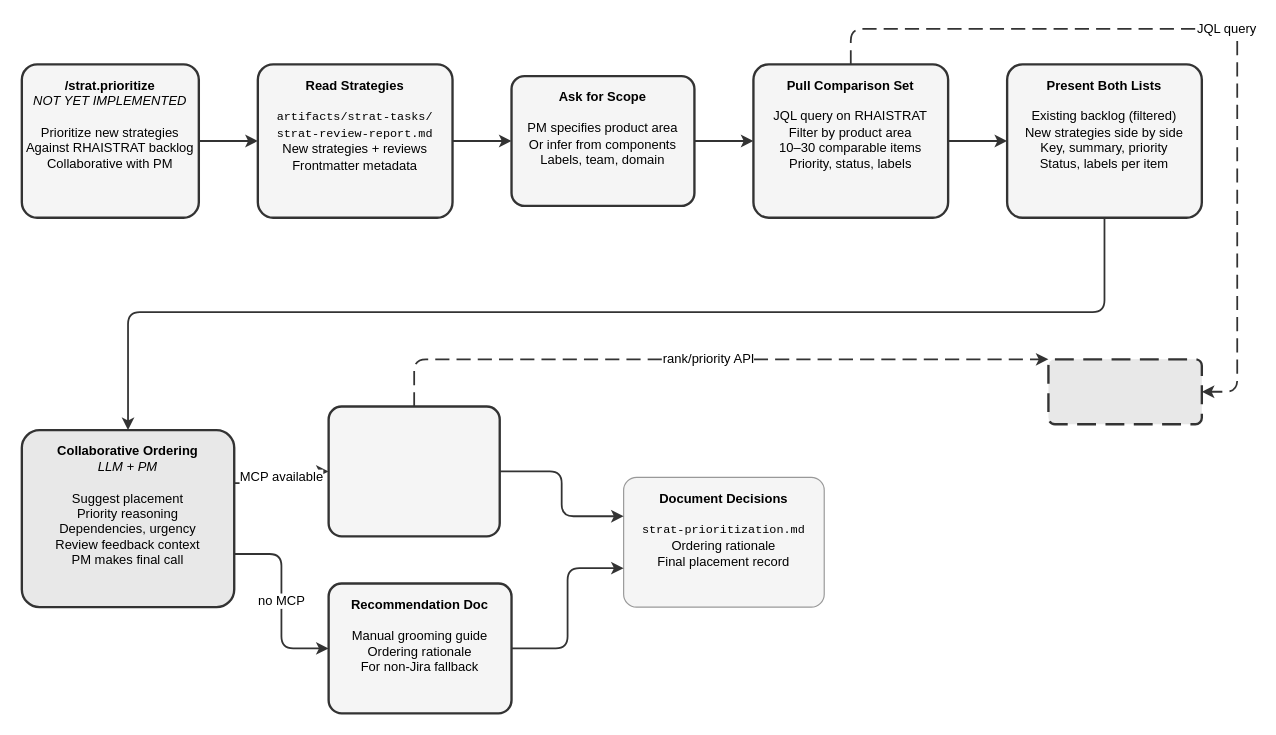
The diagram is 1276 pixels wide and 735 high, and some of its shapes have lost their labels. The centre of each missing label's shape, as x and y in pixels:
"Jira RHAISTRAT" belongs at point 1124,391.
"Update Jira Update rank/priority Update labels RHAISTRAT tickets" belongs at point 413,471.
